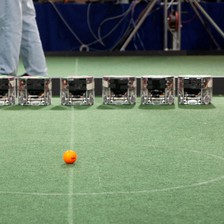ball: (61, 146, 78, 163)
robot: (99, 73, 138, 106), (57, 73, 96, 106), (138, 73, 176, 106), (176, 73, 213, 106), (16, 73, 52, 106), (1, 73, 14, 106)
